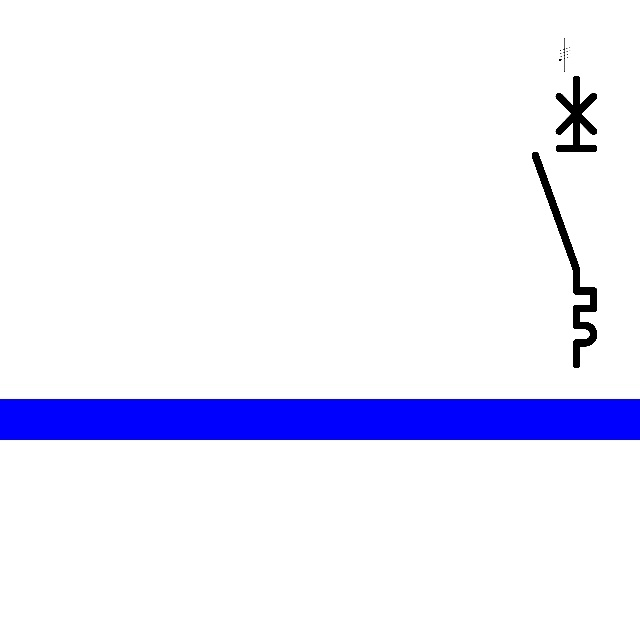interruptor_termomagnetico: (528, 72, 601, 372)
